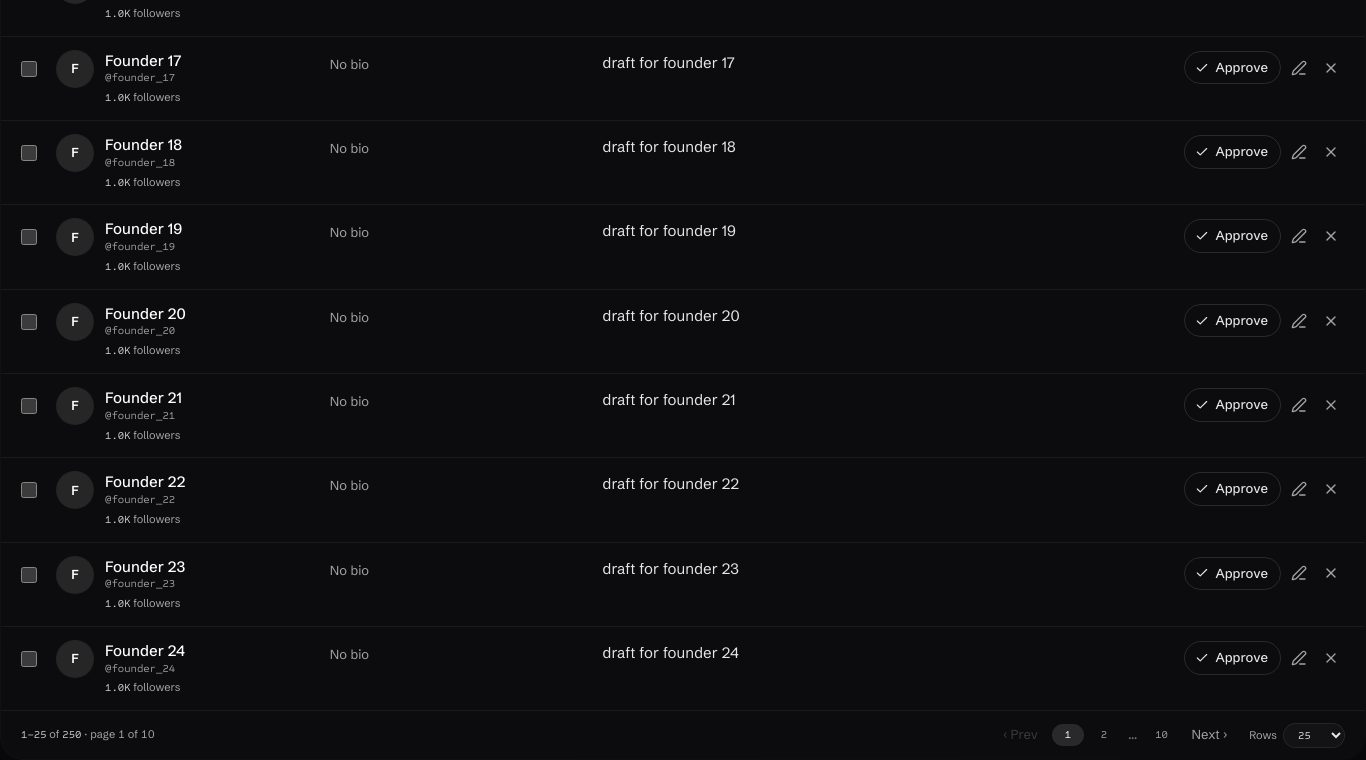
Scenario: ApprovalQueue pagination › re-pages the table when rows-per-page changes, and persists the choice
The width and height of the screenshot is (1366, 760).
(page scrolled)
Select "10" in the dropdown named "Rows per page" at (1314, 735), box [1283,723,1345,748]
(page scrolled)
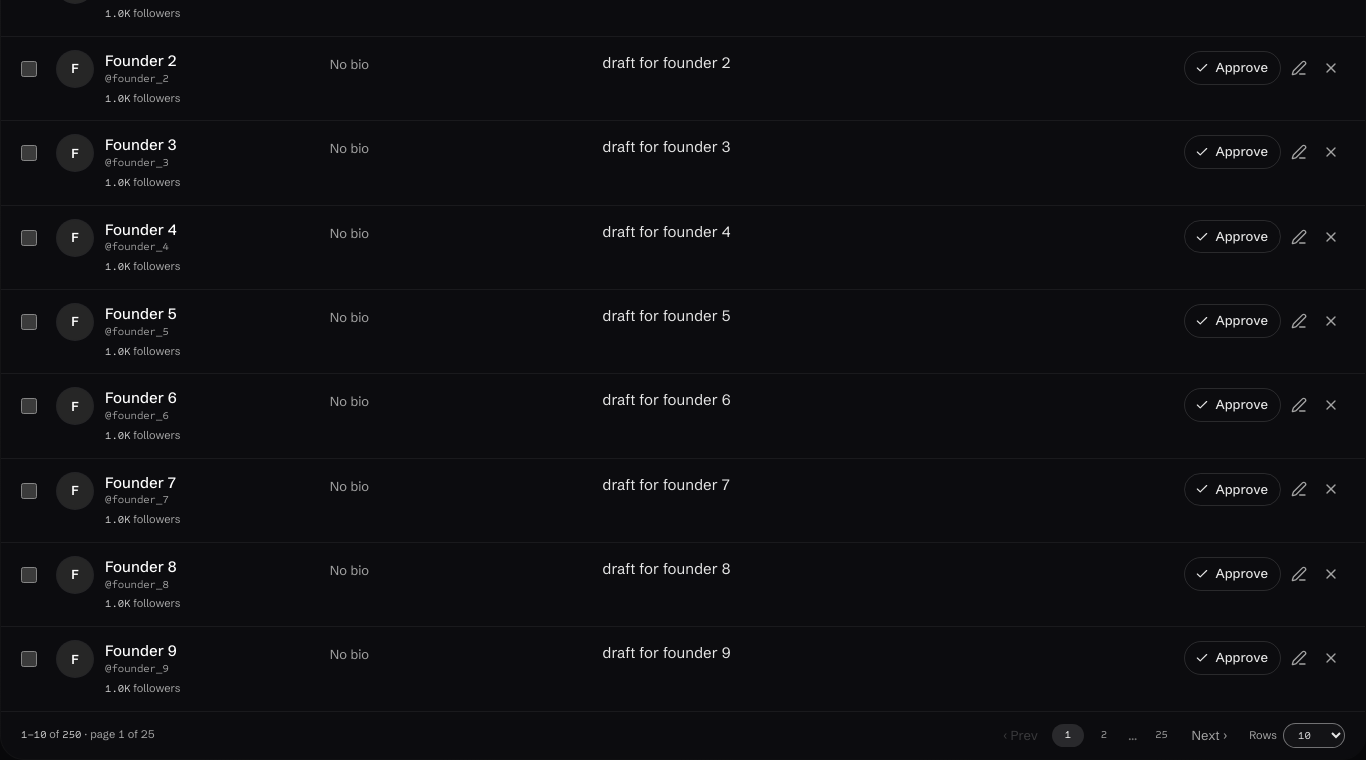
expect the element showing "1–10 of 250 · page 1 of 25" is shown: met, box [21,728,155,743]
